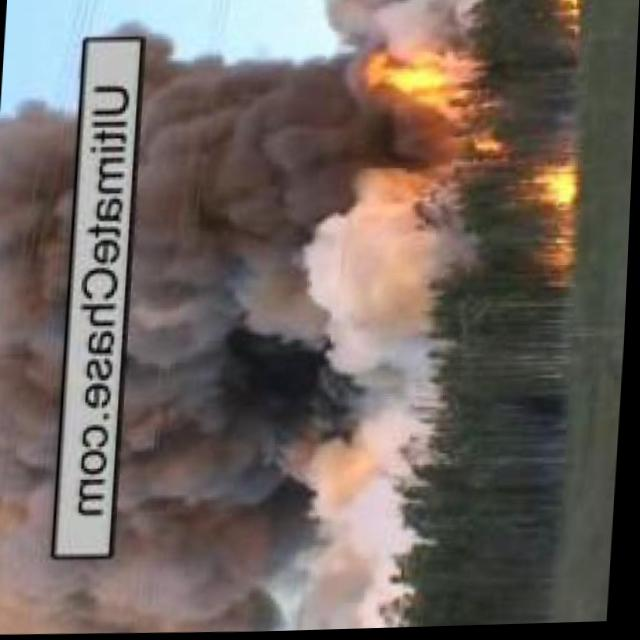Fire: (346, 49, 503, 163), (514, 164, 575, 211), (545, 0, 581, 27), (547, 245, 575, 277)
